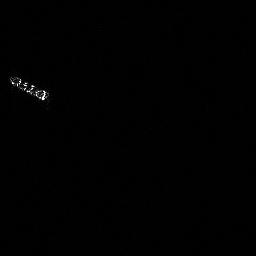ship: (5, 73, 55, 104)
